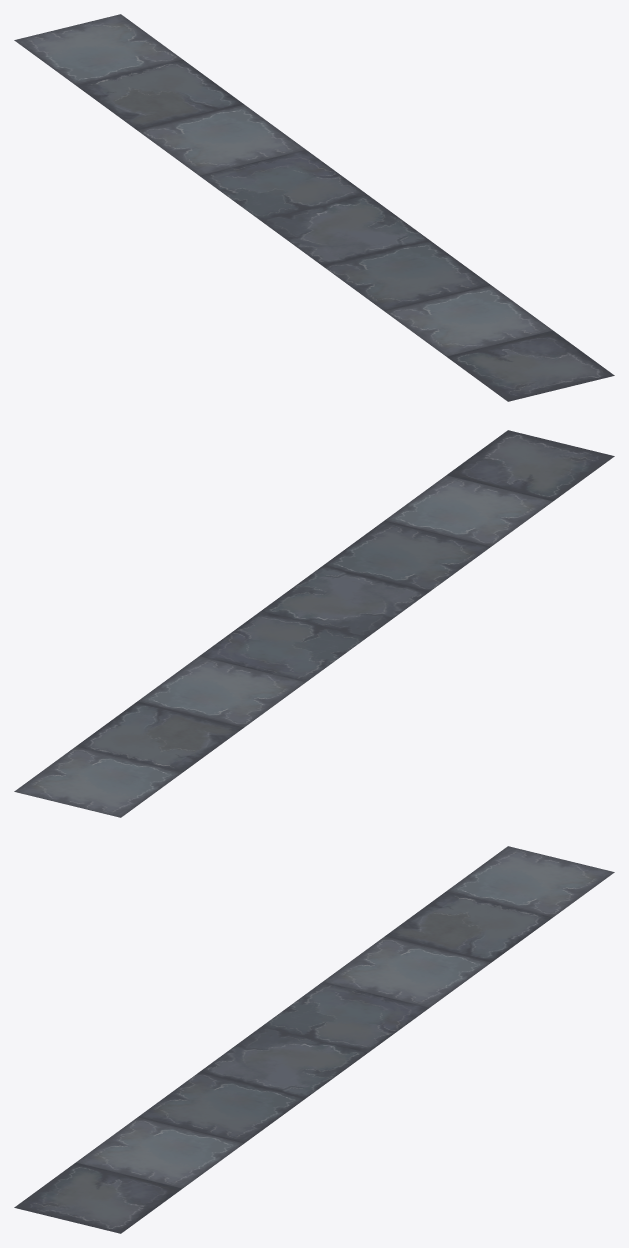
The model's file is Castle Ground + Mix 8x1.fbx.
The picture shows the model from 3 angles, top to bottom: view 1: azimuth 30°, elevation 25°; view 2: azimuth 150°, elevation 25°; view 3: azimuth 330°, elevation 25°; orthographic projection.
Parts seen in each view (by area): view 1: Castle Ground + Mix 8x1; view 2: Castle Ground + Mix 8x1; view 3: Castle Ground + Mix 8x1.
Part boxes in pixels (x1,y1,x2,y2): Castle Ground + Mix 8x1: (14, 14, 614, 401); Castle Ground + Mix 8x1: (14, 430, 614, 817); Castle Ground + Mix 8x1: (14, 846, 614, 1233).
Bounding box in the file's own units: 0.75 × 9.55e-07 × 6.
